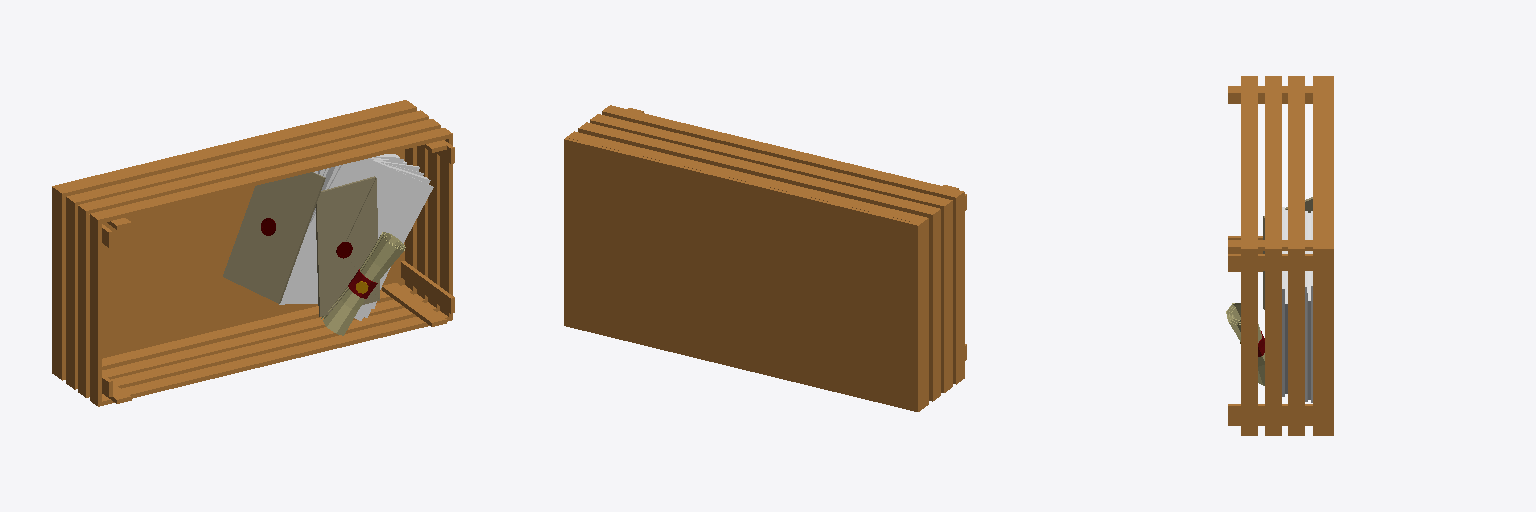
The model's file is crate_stuff.obj.
3 views of the same model, side by side, from view 1: azimuth 30°, elevation 25°; view 2: azimuth 150°, elevation 25°; view 3: azimuth 270°, elevation 25° (orthographic).
Parts seen in each view (by area): view 1: pCube18; view 2: pCube18; view 3: pCube18.
Part boxes in pixels (x1,y1,x2,y2): pCube18: (52,100,454,406); pCube18: (564,105,966,411); pCube18: (1226,76,1333,435).
Size of the model in its own units: 87.23 by 43.92 by 23.